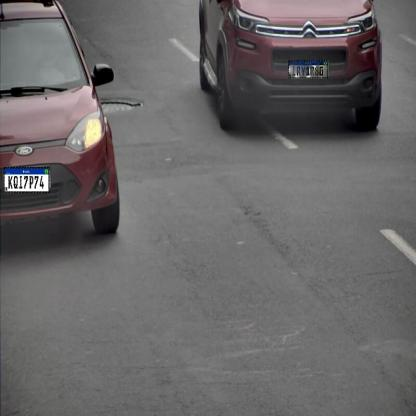PlacaM: (3, 167, 50, 193), (288, 60, 328, 78)
